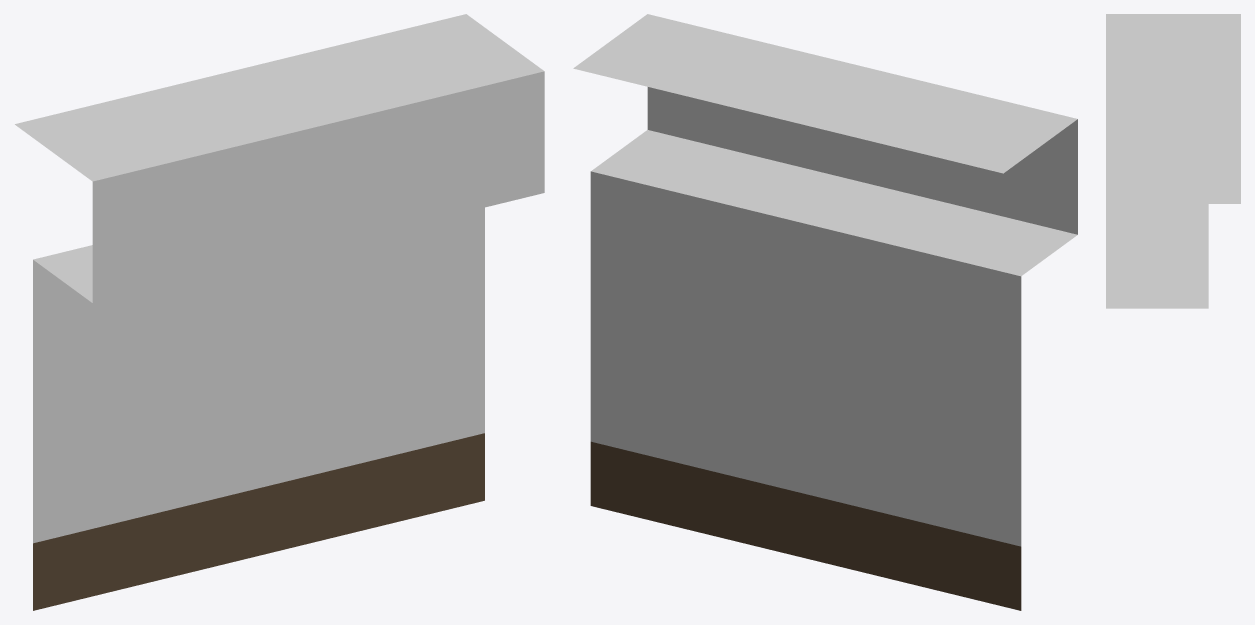
Rendered from M_WallH350White80-3.fbx.
The picture shows the model from 3 angles, left to right: view 1: azimuth 30°, elevation 25°; view 2: azimuth 150°, elevation 25°; view 3: azimuth 270°, elevation 25°; orthographic projection. The views are drawn at different scales.
Parts seen in each view (by area): view 1: M_WallH350White80-3; view 2: M_WallH350White80-3; view 3: M_WallH350White80-3.
Boxes of the visible parts, x1=… form: M_WallH350White80-3: x1=15, y1=14, x2=544, y2=610; M_WallH350White80-3: x1=573, y1=14, x2=1077, y2=610; M_WallH350White80-3: x1=1106, y1=14, x2=1240, y2=308.
Bounding box in the file's own units: 350 × 105 × 350.
